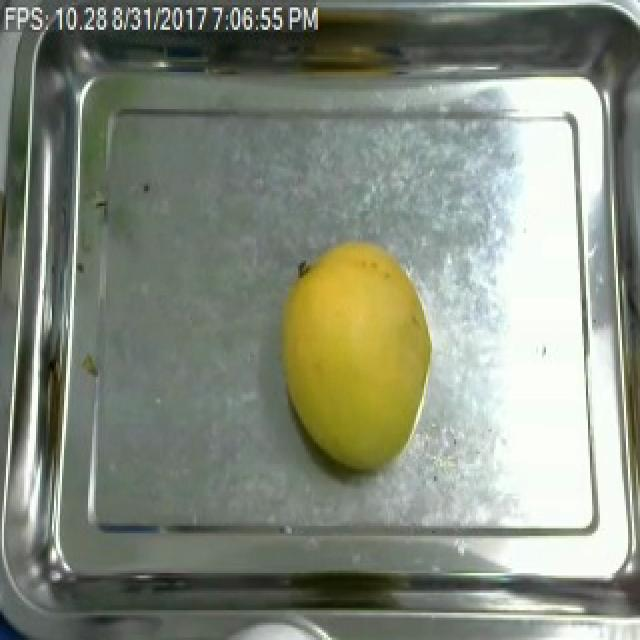fruit: (266, 233, 442, 486)
